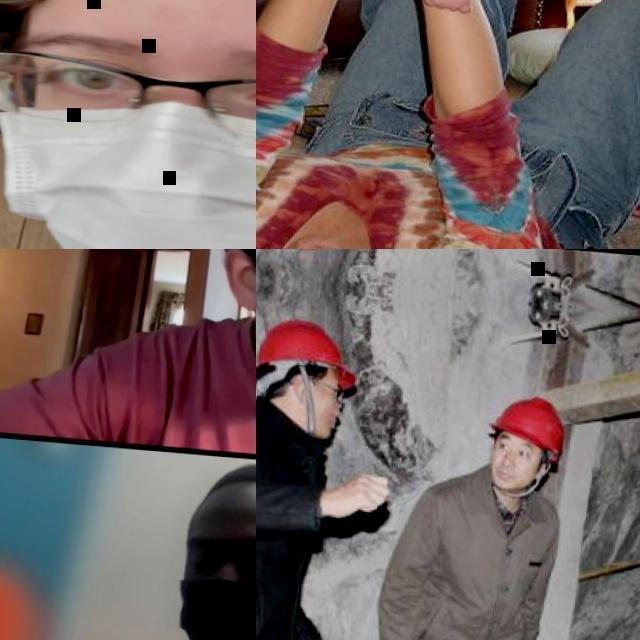helmet: (256, 318, 362, 387), (488, 387, 567, 457)
